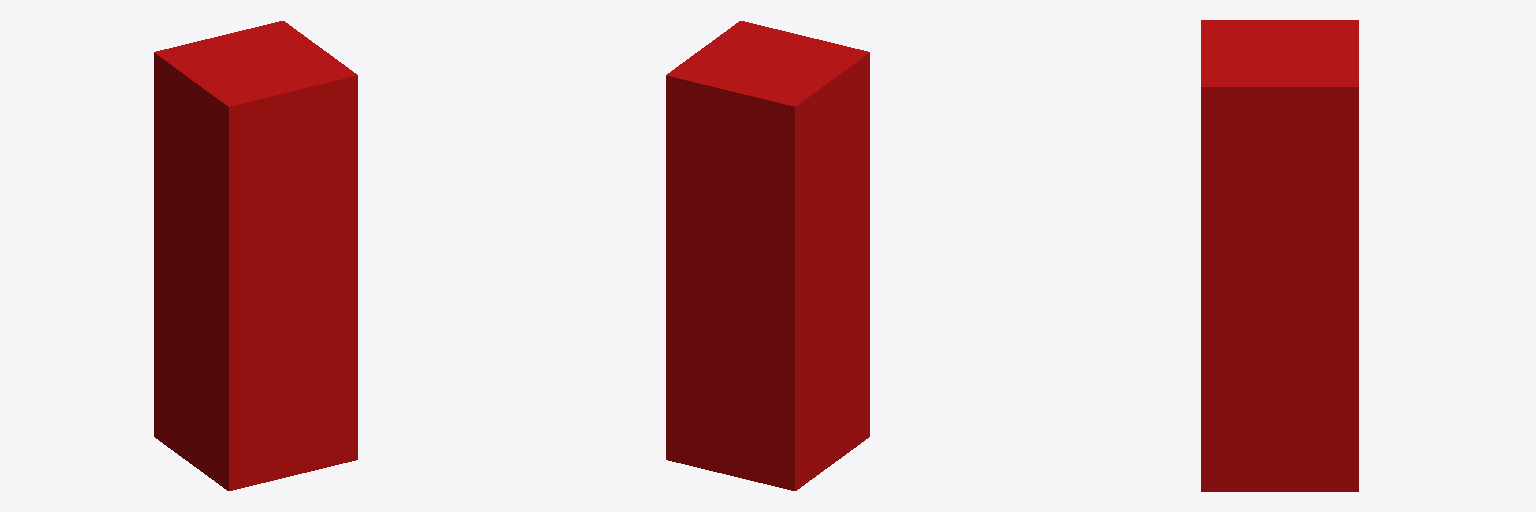
The robot description file, URDF, robot "simple_cuboid4":
<?xml version="1.0"?>
<robot name="simple_cuboid4">
  <link name="base_link">
    <inertial>
      <origin xyz="0 0 0" rpy="0 0 0" />
      <mass value="0.1" />
      <!-- <inertia ixx="0.000363" ixy="0" ixz="0" iyy="0.000363" iyz="0"
          izz="0.00006" /> -->
      <inertia ixx="0.000360" ixy="0" ixz="0" iyy="0.0000615" iyz="0"
          izz="0.00036" />
    </inertial>
    <visual>
      <origin xyz="0 0 0" rpy="0 0 0" />
      <geometry>
        <box size="0.06 0.06 0.17" />
      </geometry>
      <material name="red">
        <color rgba="0.8 0.1 0.1 0.9" />
      </material>
    </visual>

    <!--
      This places contact spheres on the corners of the visual box and a
      *slightly* smaller inset contact box (centered on the visual origin). This
      accounts for issues in the contact computation providing stable table
      contact *and* supports grasping.

      When the box is in stable contact with the ground plane, the corner
      spheres will provide fixed contact points (simulating distributed contact
      points around the face).  However, for arbitrary grip configuration, the
      slightly inset box will provide contact with a *slight* offset (in this
      case a deviation of 0.0005 m from the visual surface).

      https://github.com/RobotLocomotion/drake/issues/6254 tracks the
      difficulty in supporting face-to-face contact.
     -->
    <contact_coefficients kd="1.0" kp="1000.0" mu="1"/>
    <collision>
      <geometry>
        <box size="0.059 0.059 0.169" />
      </geometry>
    </collision>

    <collision>
      <origin xyz="-0.03 -0.03 -0.085" rpy="0 0 0"/>
      <geometry>
        <sphere radius="1e-7"/>
      </geometry>
    </collision>
    <collision>
      <origin xyz="-0.03 0.03 -0.085" rpy="0 0 0"/>
      <geometry>
        <sphere radius="1e-7"/>
      </geometry>
    </collision>
    <collision>
      <origin xyz="0.03 0.03 -0.085" rpy="0 0 0"/>
      <geometry>
        <sphere radius="1e-7"/>
      </geometry>
    </collision>
    <collision>
      <origin xyz="0.03 -0.03 -0.085" rpy="0 0 0"/>
      <geometry>
        <sphere radius="1e-7"/>
      </geometry>
    </collision>

    <collision>
      <origin xyz="-0.03 -0.03 0.085" rpy="0 0 0"/>
      <geometry>
        <sphere radius="1e-7"/>
      </geometry>
    </collision>
    <collision>
      <origin xyz="-0.03 0.03 0.085" rpy="0 0 0"/>
      <geometry>
        <sphere radius="1e-7"/>
      </geometry>
    </collision>
    <collision>
      <origin xyz="0.03 0.03 0.085" rpy="0 0 0"/>
      <geometry>
        <sphere radius="1e-7"/>
      </geometry>
    </collision>
    <collision>
      <origin xyz="0.03 -0.03 0.085" rpy="0 0 0"/>
      <geometry>
        <sphere radius="1e-7"/>
      </geometry>
    </collision>

   </link>
</robot>

--- Facts derived from the render (not from the file) ---
The picture shows the robot from 3 angles, left to right: view 1: azimuth 30°, elevation 25°; view 2: azimuth 150°, elevation 25°; view 3: azimuth 270°, elevation 25°; orthographic projection.
Model simple_cuboid4 with 1 links and 0 joints (none), rooted at base_link, posed every joint at zero.
Visible links, largest first — view 1: base_link; view 2: base_link; view 3: base_link.
Boxes of the visible links, box(x1,y1,x2,y2) form: base_link: box(154, 21, 357, 490); base_link: box(666, 21, 869, 490); base_link: box(1201, 20, 1358, 491).
Size in the robot's own frame: 0.06 by 0.06 by 0.17 metres.
Geometry: primitives only (box / cylinder / sphere), no mesh files.